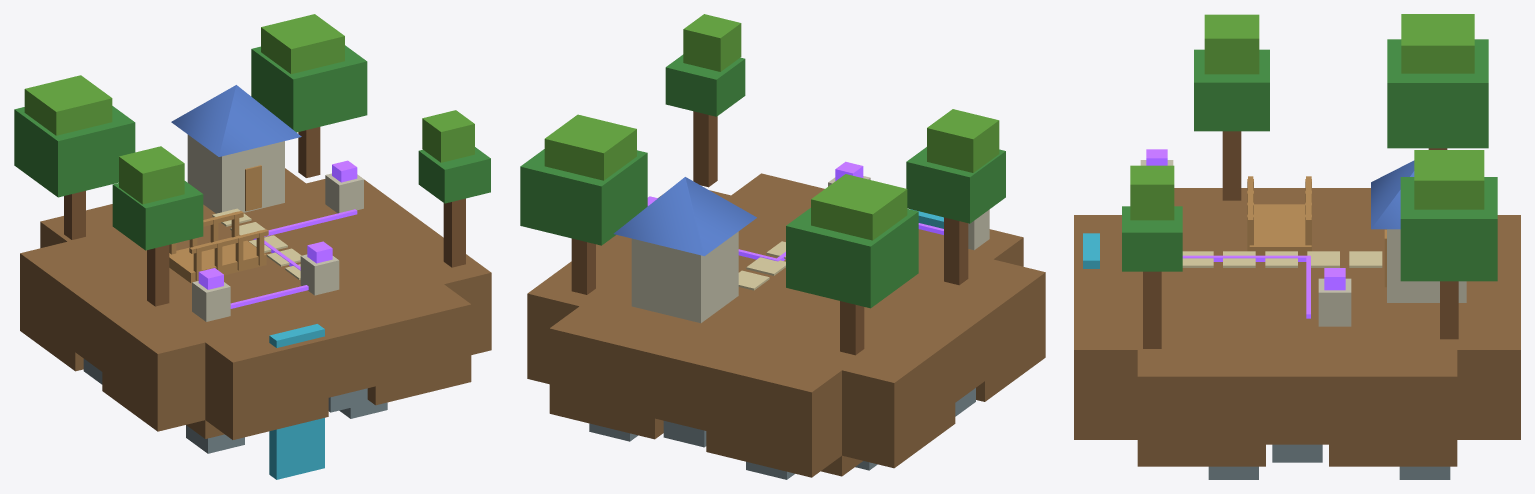
The model's file is codecraft-world.glb.
3 views of the same model, side by side, from view 1: azimuth 30°, elevation 25°; view 2: azimuth 150°, elevation 25°; view 3: azimuth 270°, elevation 25° (orthographic). The views are drawn at different scales.
Parts seen in each view (by area): view 1: Tree_crown (×4), Tree_top (×4), earth_-2_3, earth_-3_2, earth_1_3, earth_2_3, House, Forest, Tree_trunk (×4), earth_-1_3, earth_0_3, CodestoneNode (×3) (+32 smaller); view 2: Tree_crown (×4), Tree_top (×4), earth_-2_-3, earth_-3_-2, House, earth_2_-3, earth_-1_-3, earth_1_-3, Forest, Tree_trunk (×4), earth_0_-3, earth_-3_1 (+25 smaller); view 3: Tree_crown (×4), Tree_top (×4), earth_3_-2, earth_3_2, earth_3_1, earth_3_-1, earth_2_3, earth_2_-3, earth_3_0, Tree_trunk (×3), Bridge, PathTile (×5) (+40 smaller).
Part boxes in pixels (x1,y1,x2,y2): Tree_crown (×4): (14, 45, 490, 250); Tree_top (×4): (24, 14, 474, 204); earth_-2_3: (205, 331, 280, 439); earth_-3_2: (130, 322, 205, 431); earth_1_3: (349, 296, 423, 405); earth_2_3: (395, 284, 471, 393); House: (187, 134, 284, 213); Forest: (171, 85, 301, 156); Tree_trunk (×4): (64, 127, 465, 306); earth_-1_3: (253, 319, 328, 428); earth_0_3: (301, 307, 376, 397); CodestoneNode (×3): (192, 173, 363, 321); Tree_crown (×4): (520, 54, 1005, 308); Tree_top (×4): (544, 14, 999, 240); earth_-2_-3: (758, 357, 841, 477); earth_-3_-2: (842, 348, 924, 468); House: (631, 231, 738, 323); earth_2_-3: (549, 306, 631, 426); earth_-1_-3: (706, 345, 789, 464); earth_1_-3: (602, 319, 683, 439); Forest: (613, 177, 756, 256); Tree_trunk (×4): (571, 111, 968, 355); earth_0_-3: (654, 332, 736, 430); earth_-3_1: (933, 282, 1015, 401); Tree_crown (×4): (1122, 39, 1497, 281); Tree_top (×4): (1130, 14, 1484, 220); earth_3_-2: (1392, 349, 1457, 466); earth_3_2: (1137, 349, 1202, 466); earth_3_1: (1201, 349, 1265, 466); earth_3_-1: (1329, 349, 1393, 466); earth_2_3: (1074, 322, 1138, 439); earth_2_-3: (1456, 322, 1520, 439); earth_3_0: (1265, 349, 1329, 444); Tree_trunk (×3): (1143, 131, 1458, 348); Bridge: (1249, 204, 1311, 255); PathTile (×5): (1182, 251, 1382, 267).
Size of what is drawn, in the model's own units: 4.77 by 3.93 by 4.77.
